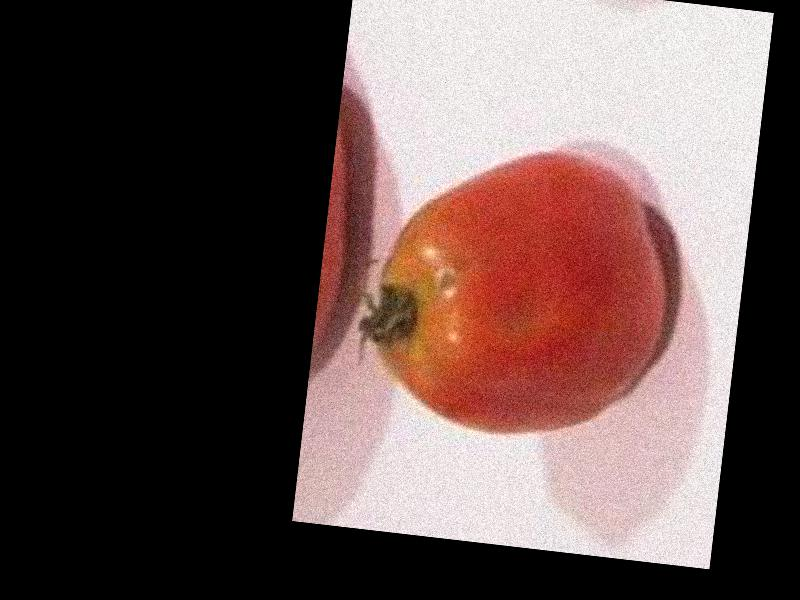Tomato: (360, 134, 674, 448)
